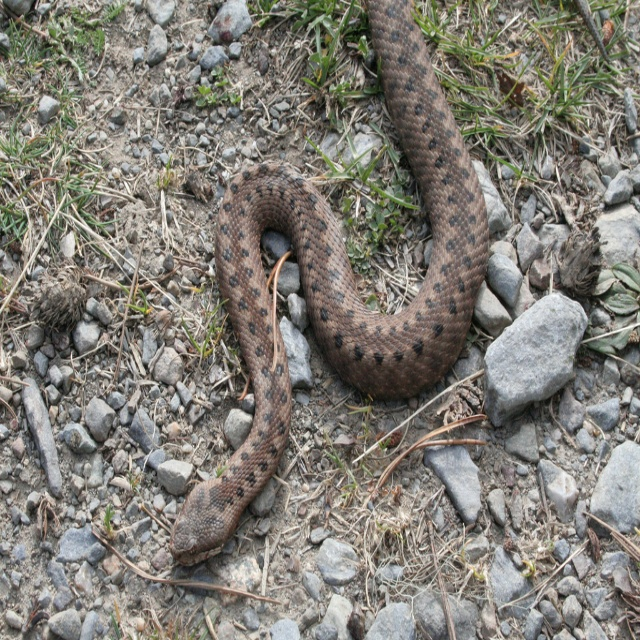Snake: (169, 0, 491, 570)
